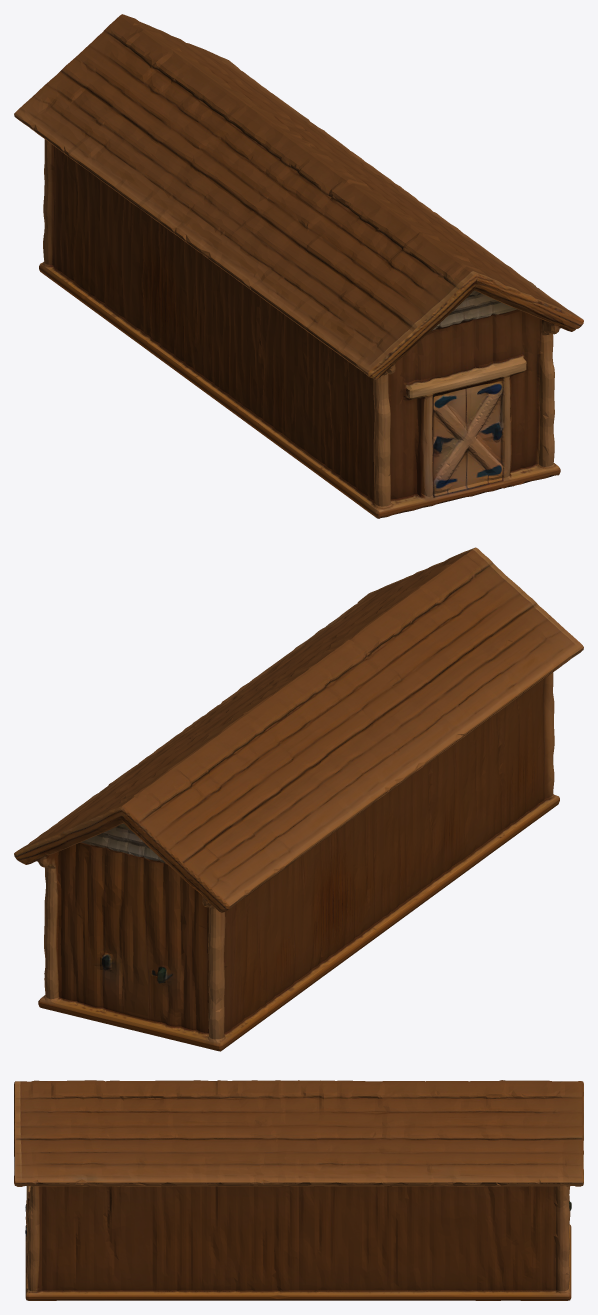
File: building_wood.glb
3 renders of one model, top to bottom at view 1: azimuth 30°, elevation 25°; view 2: azimuth 150°, elevation 25°; view 3: azimuth 270°, elevation 25°, orthographic. The views are drawn at different scales.
Visible parts, largest first — view 1: textured_mesh.obj; view 2: textured_mesh.obj; view 3: textured_mesh.obj.
Boxes of the visible parts, bbox=[...] form: textured_mesh.obj: bbox=[14, 14, 583, 518]; textured_mesh.obj: bbox=[14, 547, 583, 1051]; textured_mesh.obj: bbox=[14, 1080, 583, 1300].
Size of the model in its own units: 0.698 by 0.7117 by 1.99.
1 material, 1 textured.
